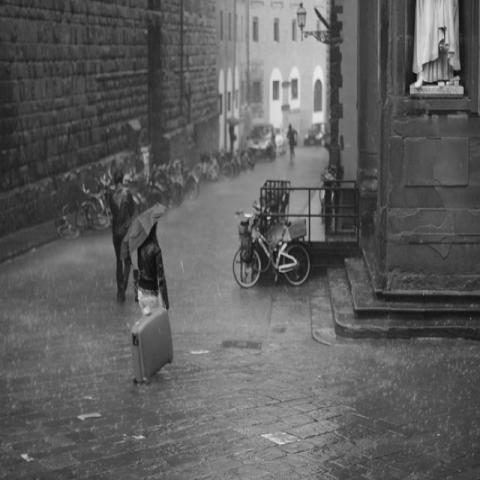car: (242, 121, 276, 162), (304, 124, 324, 147), (274, 125, 286, 155)
